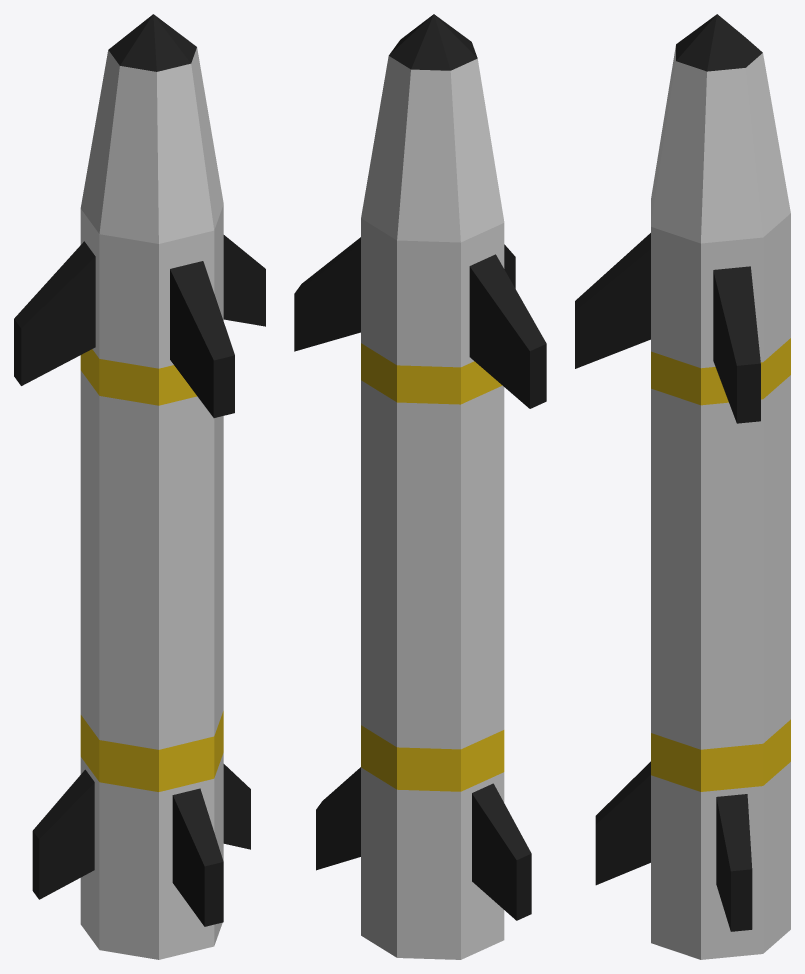
Rendered from Normal_Missile.fbx.
3 renders of one model, left to right at view 1: azimuth 30°, elevation 25°; view 2: azimuth 150°, elevation 25°; view 3: azimuth 270°, elevation 25°, orthographic.
Visible parts, largest first — view 1: Normal_Missile; view 2: Normal_Missile; view 3: Normal_Missile.
Part boxes in pixels (left/top/right/bottom): Normal_Missile: left=14, top=14, right=265, bottom=959; Normal_Missile: left=294, top=14, right=546, bottom=959; Normal_Missile: left=575, top=14, right=790, bottom=959.
Bounding box in the file's own units: 40.4 × 144 × 30.85.
